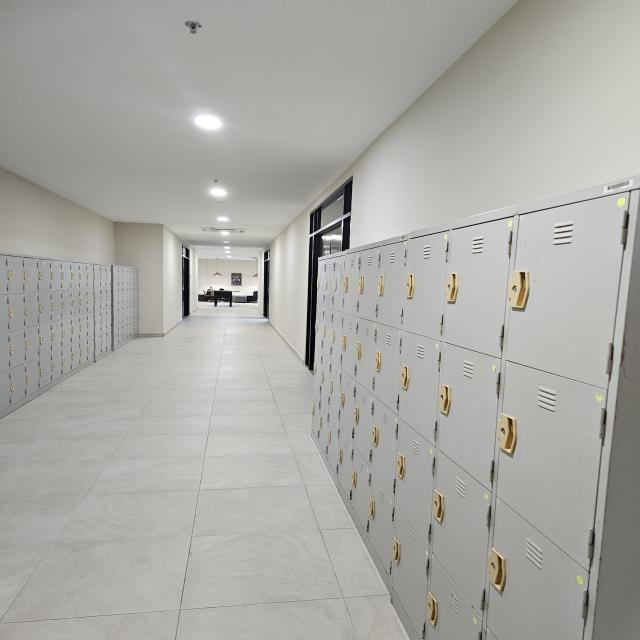footpath: (34, 393, 290, 640), (182, 318, 272, 384)
obstacle: (307, 175, 639, 639), (0, 266, 138, 374), (197, 287, 259, 307)
